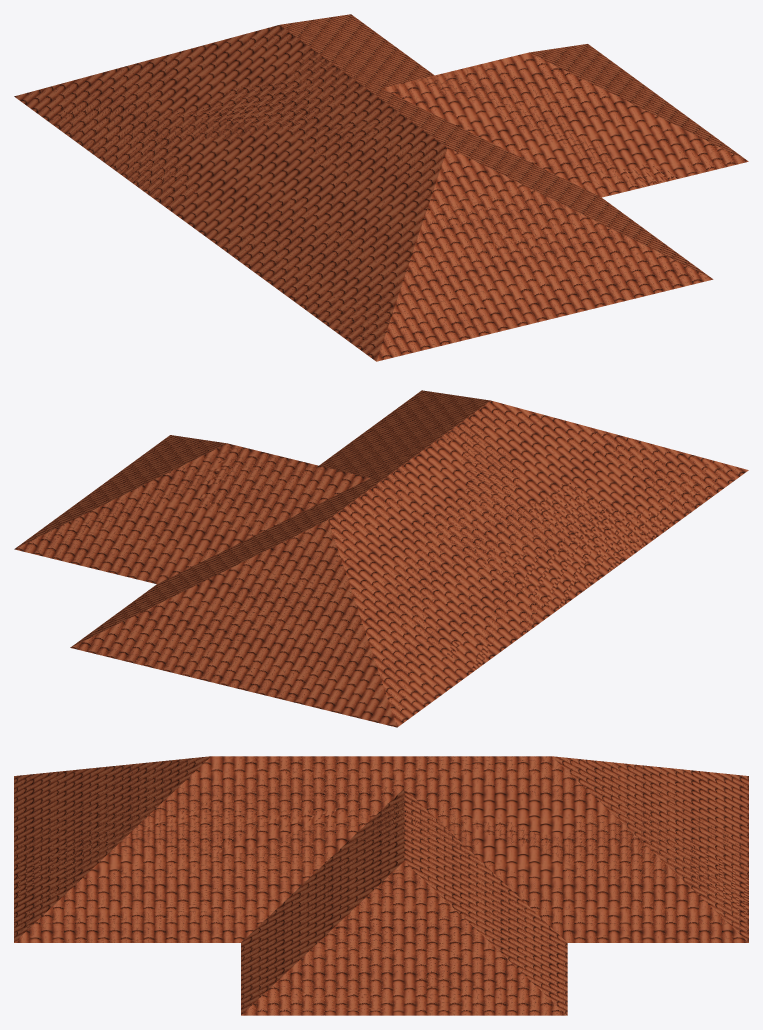
File: telhado35a.dae
3 renders of one model, top to bottom at view 1: azimuth 30°, elevation 25°; view 2: azimuth 150°, elevation 25°; view 3: azimuth 270°, elevation 25°, orthographic. The views are drawn at different scales.
Parts seen in each view (by area): view 1: SketchUp; view 2: SketchUp; view 3: SketchUp.
Boxes of the visible parts, left/top/right/bottom form: SketchUp: left=14, top=14, right=748, bottom=361; SketchUp: left=14, top=390, right=748, bottom=727; SketchUp: left=14, top=756, right=748, bottom=1015.
Bounding box in the file's own units: 492 × 638 × 98.88.
4 materials, 2 textured.
